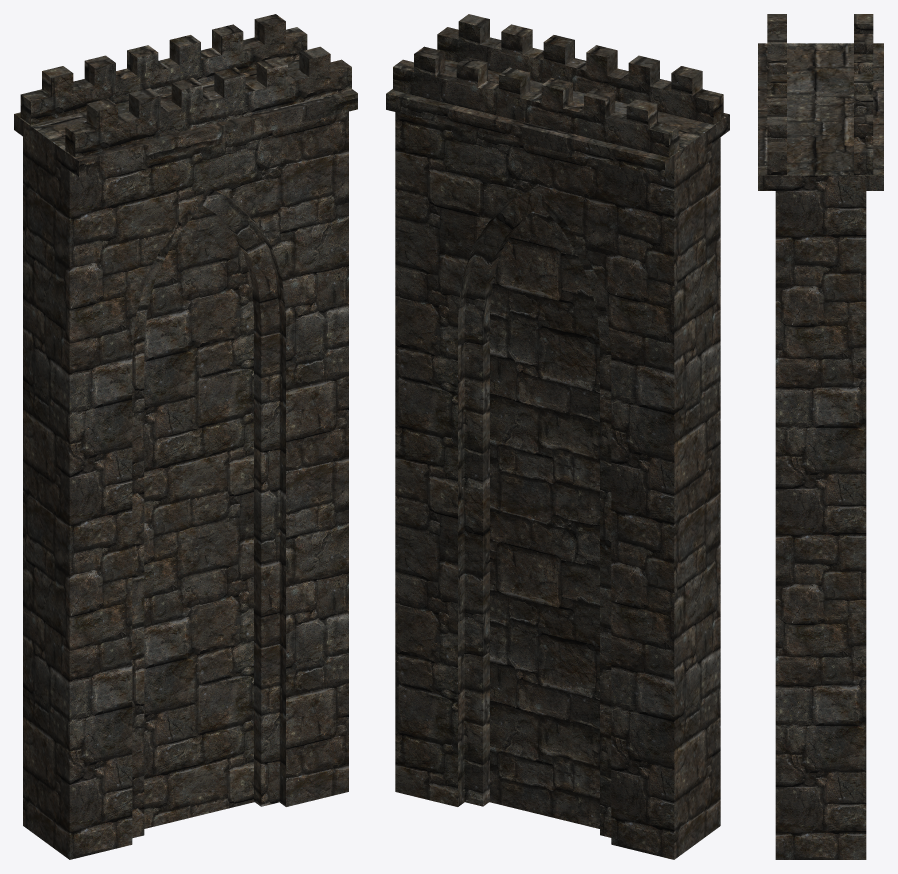
File: Citywall2.fbx
The picture shows the model from 3 angles, left to right: view 1: azimuth 30°, elevation 25°; view 2: azimuth 150°, elevation 25°; view 3: azimuth 270°, elevation 25°; orthographic projection. The views are drawn at different scales.
Parts seen in each view (by area): view 1: polySurface16; view 2: polySurface16; view 3: polySurface16.
Boxes of the visible parts, x1,y1,x2,y2 form: polySurface16: (14, 14, 357, 859); polySurface16: (386, 14, 729, 859); polySurface16: (758, 14, 883, 859).
Size of the model in its own units: 7.62 by 19.5 by 3.07.
1 material, 1 textured.
